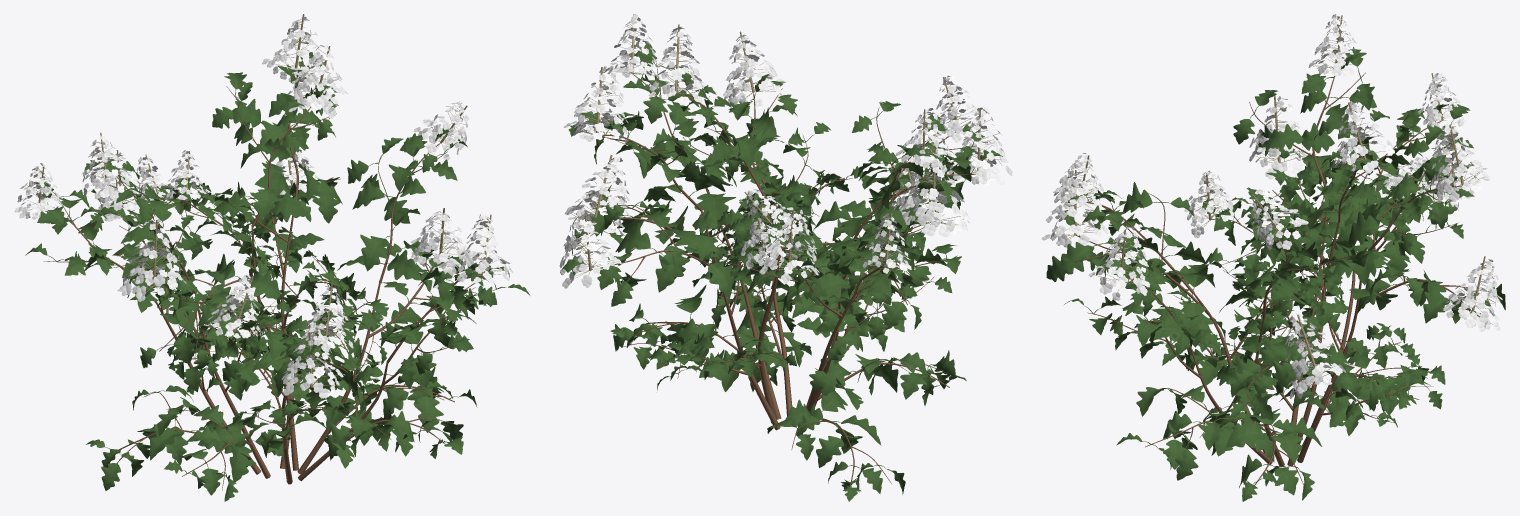
Rendered from hydrangea.glb.
3 views of the same model, side by side, from view 1: azimuth 30°, elevation 25°; view 2: azimuth 150°, elevation 25°; view 3: azimuth 270°, elevation 25° (orthographic). The views are drawn at different scales.
Parts seen in each view (by area): view 1: leaves, blooms, branches; view 2: leaves, blooms, branches; view 3: leaves, blooms, branches.
Boxes of the visible parts, x1,y1,x2,y2 form: leaves: (25, 52, 530, 501); blooms: (14, 14, 512, 398); branches: (43, 75, 502, 490); leaves: (562, 43, 1002, 501); blooms: (559, 14, 1012, 288); branches: (584, 60, 976, 486); leaves: (1046, 49, 1505, 501); blooms: (1041, 14, 1502, 398); branches: (1074, 72, 1494, 485).
Size of the model in its own units: 3.07 by 2.71 by 2.84.
Materials: 2 (1 with a texture image).
